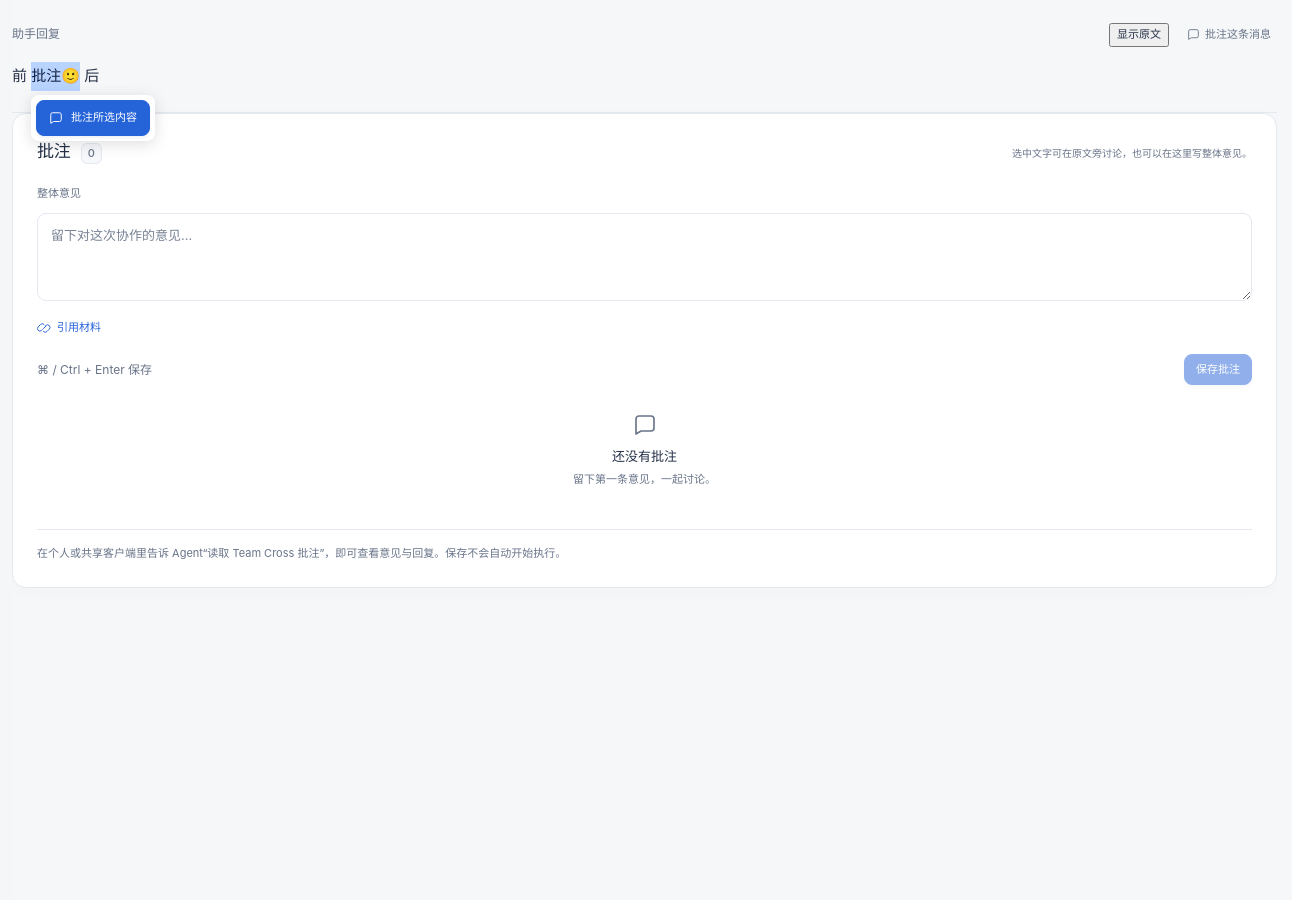
Test: places the narrow-screen editor directly after the selected paragraph and retains its draft when closed
Click the button "批注所选内容" at (93, 118), box top-left (36, 100), bottom-right (150, 136)
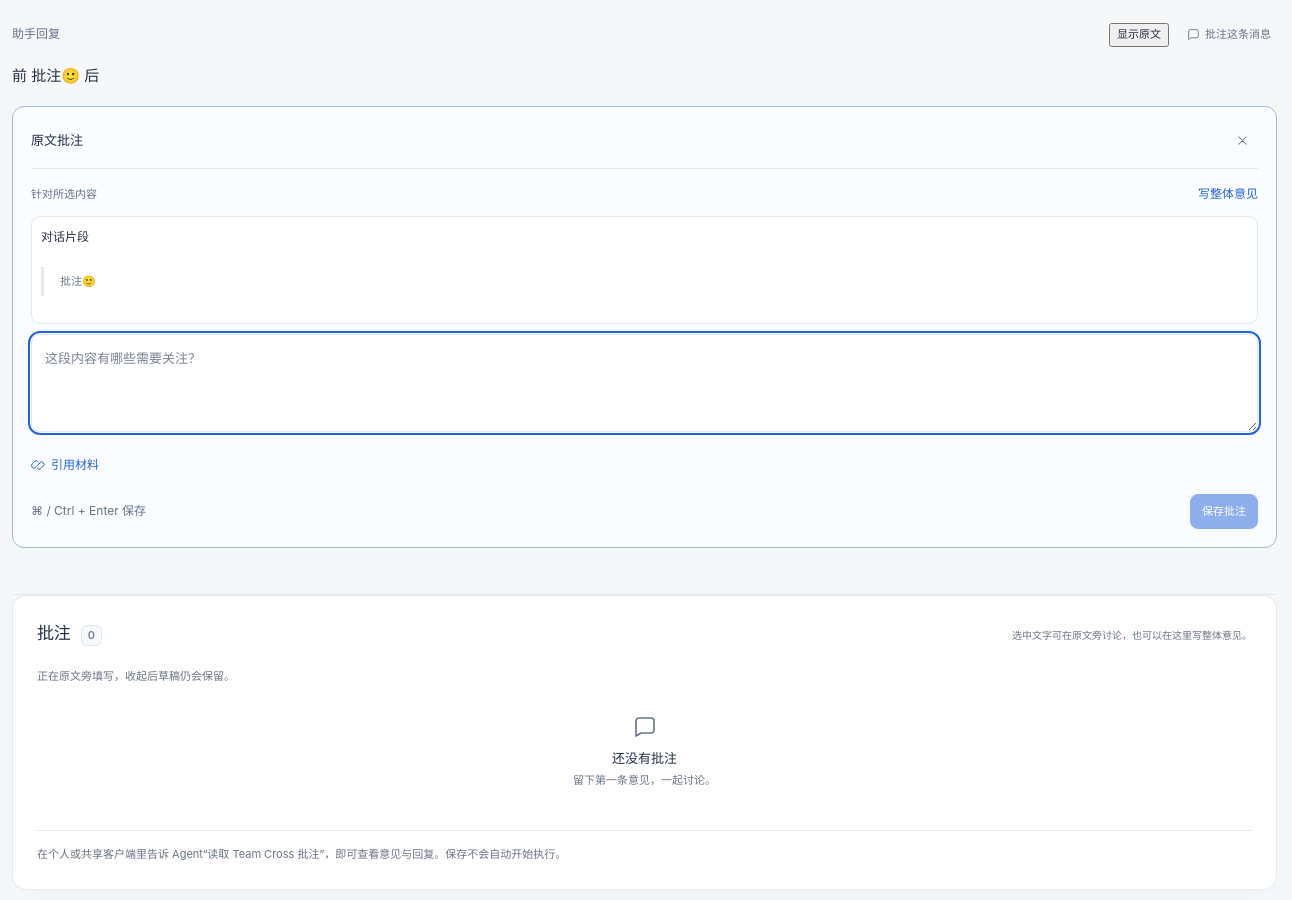
Type "窄屏草稿" into the text box named "你的意见" at (644, 383), box top-left (31, 334), bottom-right (1258, 432)
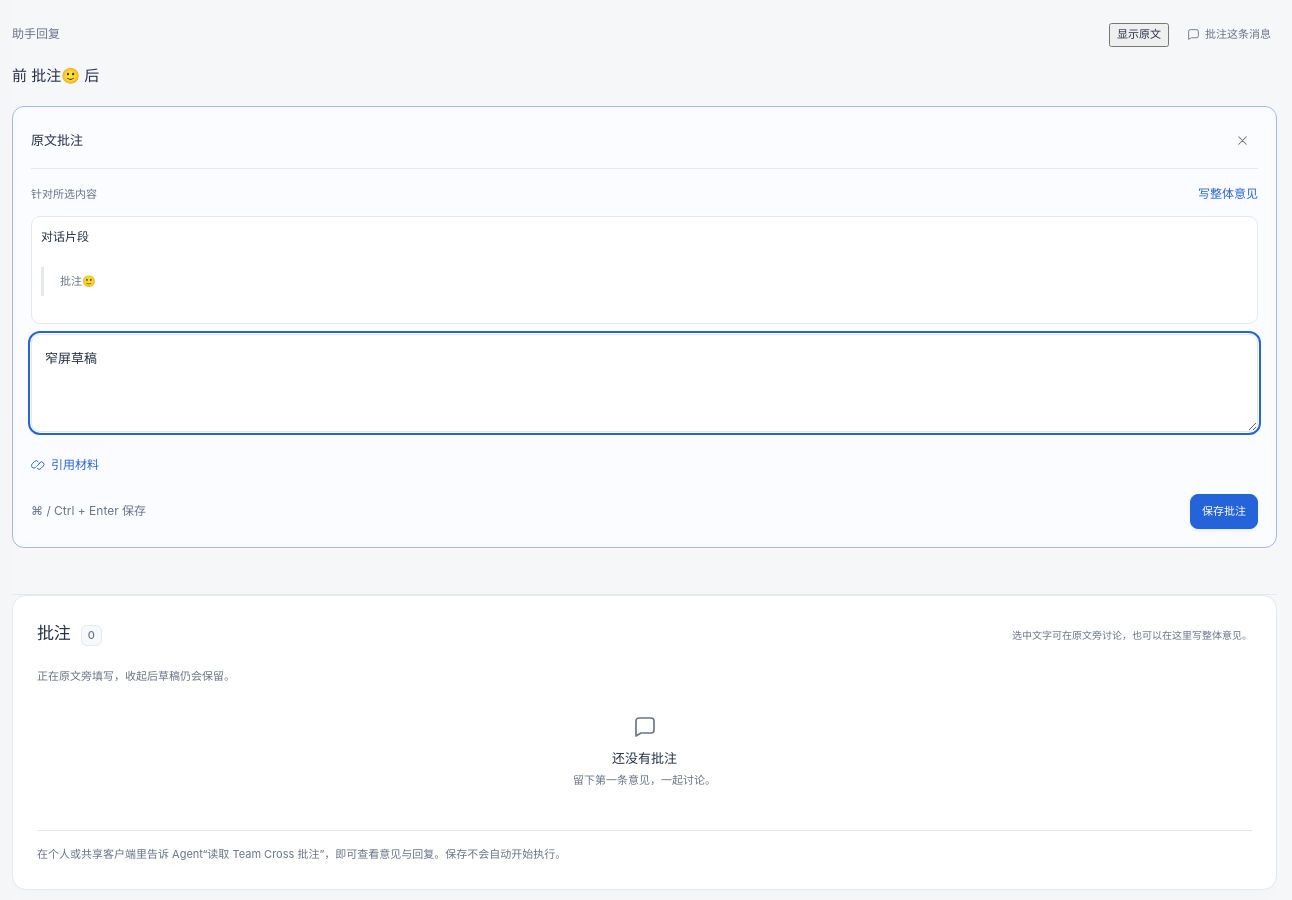
expect the button "批注所选内容" is not shown: met
Press Escape
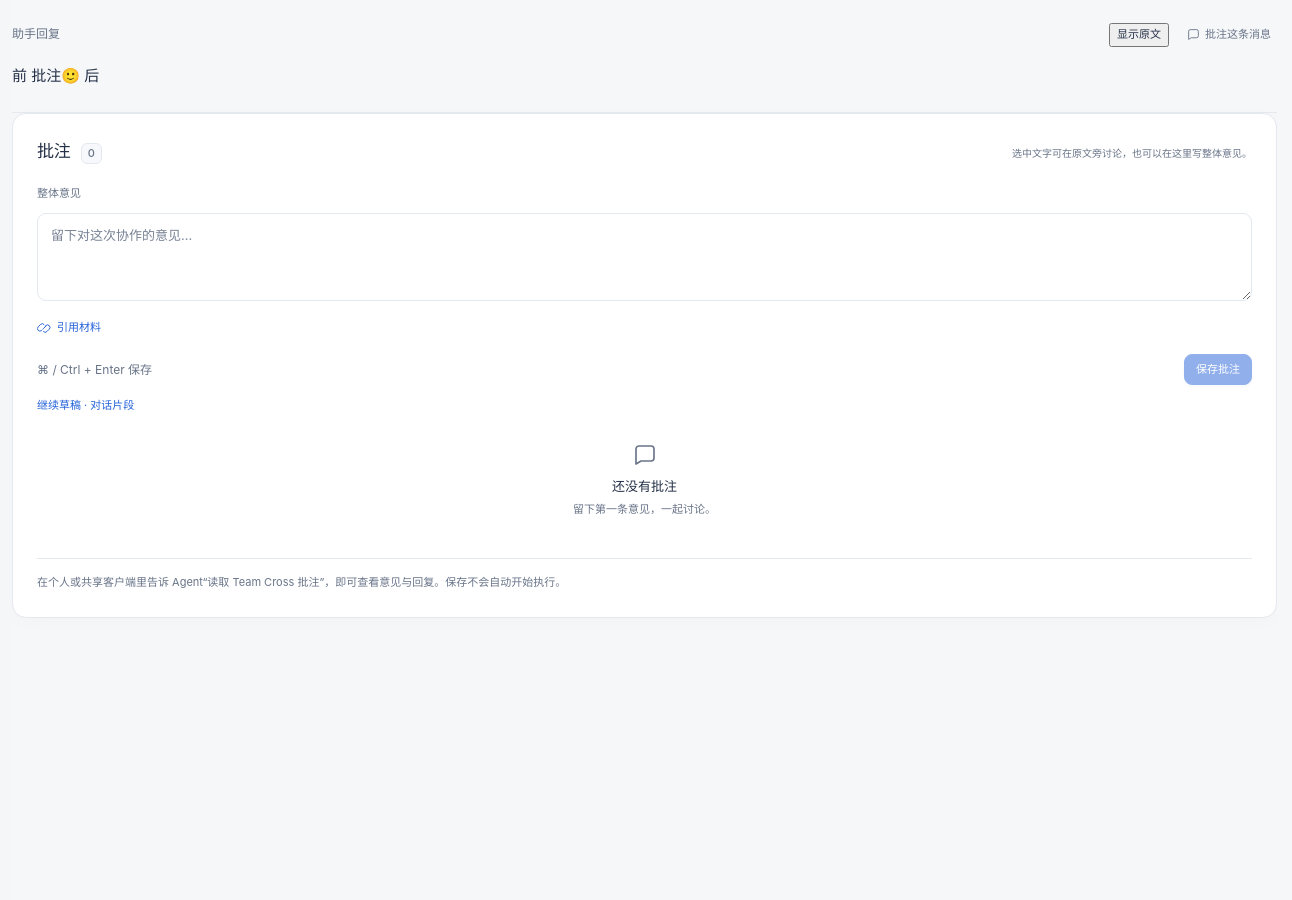
Click the button "继续草稿 · 对话片段" at (86, 406), box top-left (37, 397), bottom-right (134, 415)
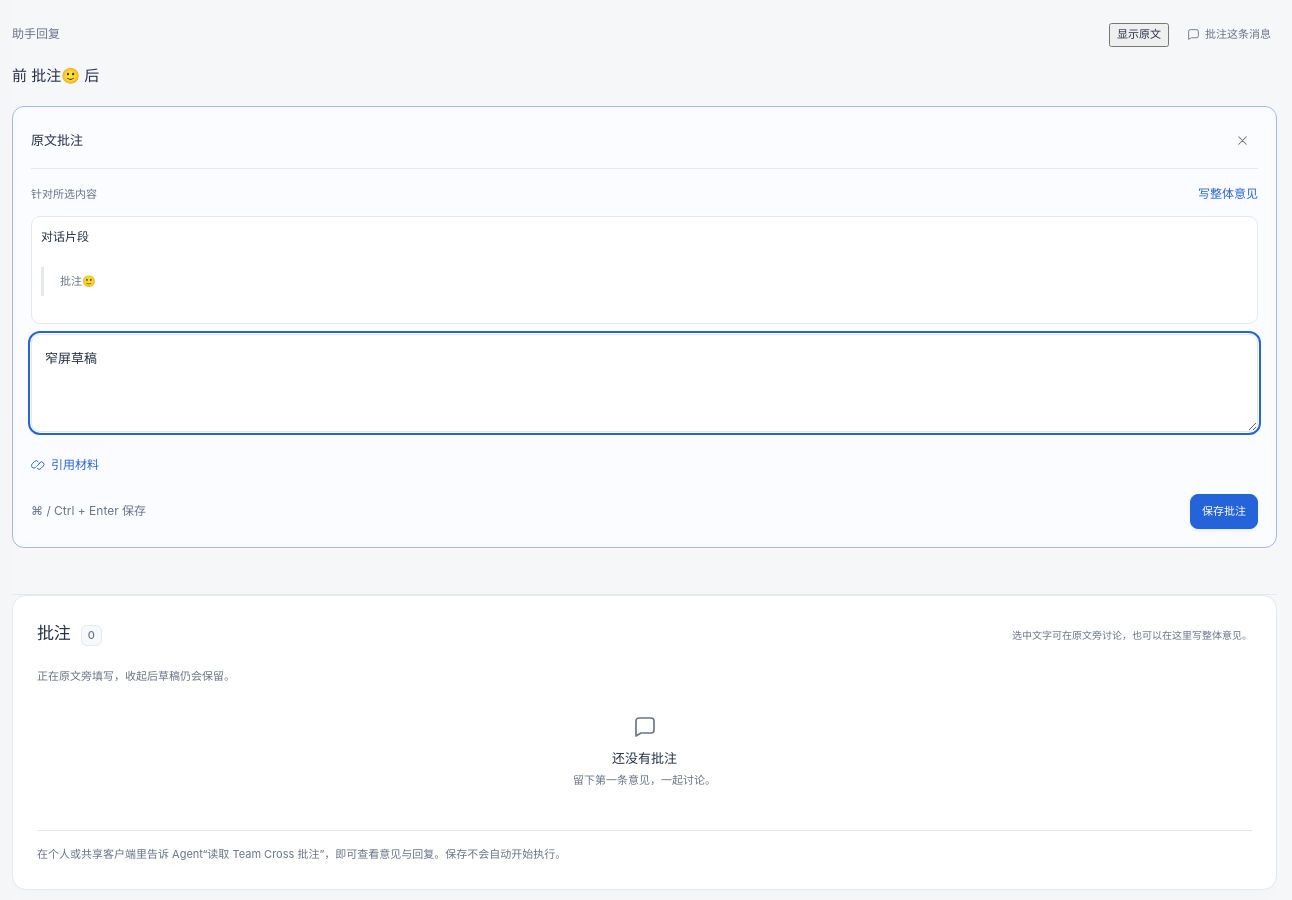
expect the text box named "你的意见" holds "窄屏草稿": met, box top-left (31, 334), bottom-right (1258, 432)
